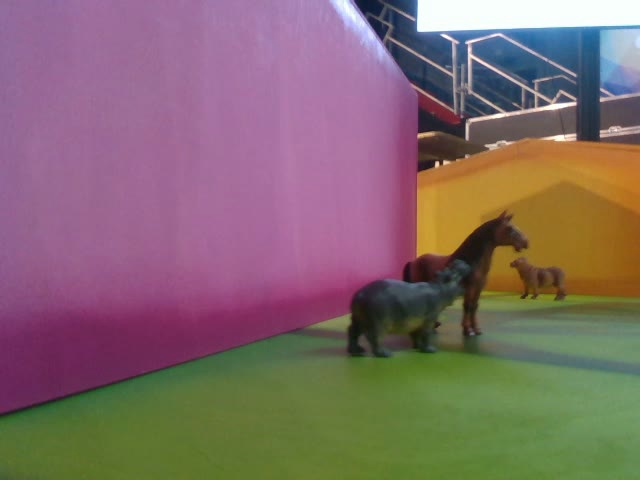toy: (347, 259, 471, 358), (509, 256, 566, 301)
